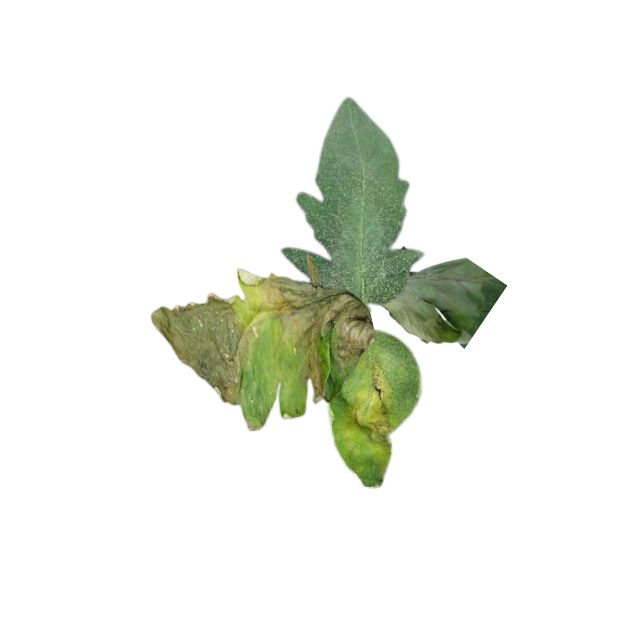Late_blight: (255, 277, 373, 403), (149, 295, 251, 407), (382, 258, 506, 350), (348, 368, 396, 447)
